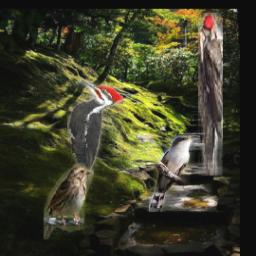Cuckoo: (149, 135, 200, 212)
Sparrow: (45, 163, 95, 239)
Woodpecker: (68, 78, 124, 190), (198, 13, 223, 176)
